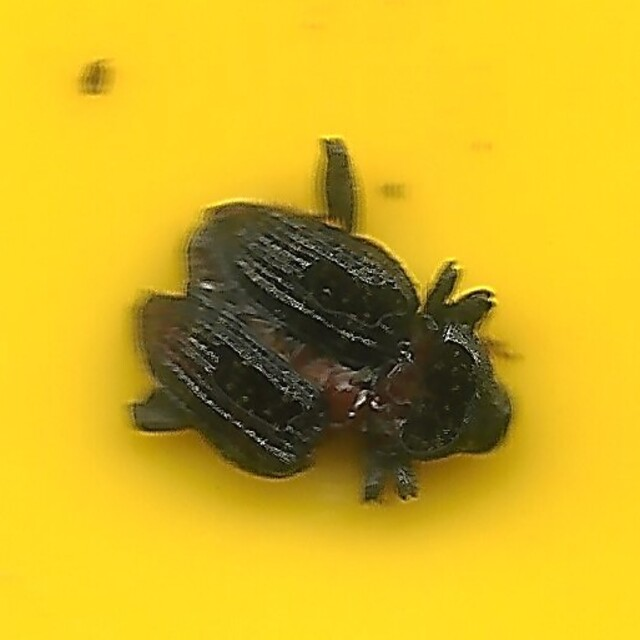Coleoptera: (125, 133, 515, 507)
